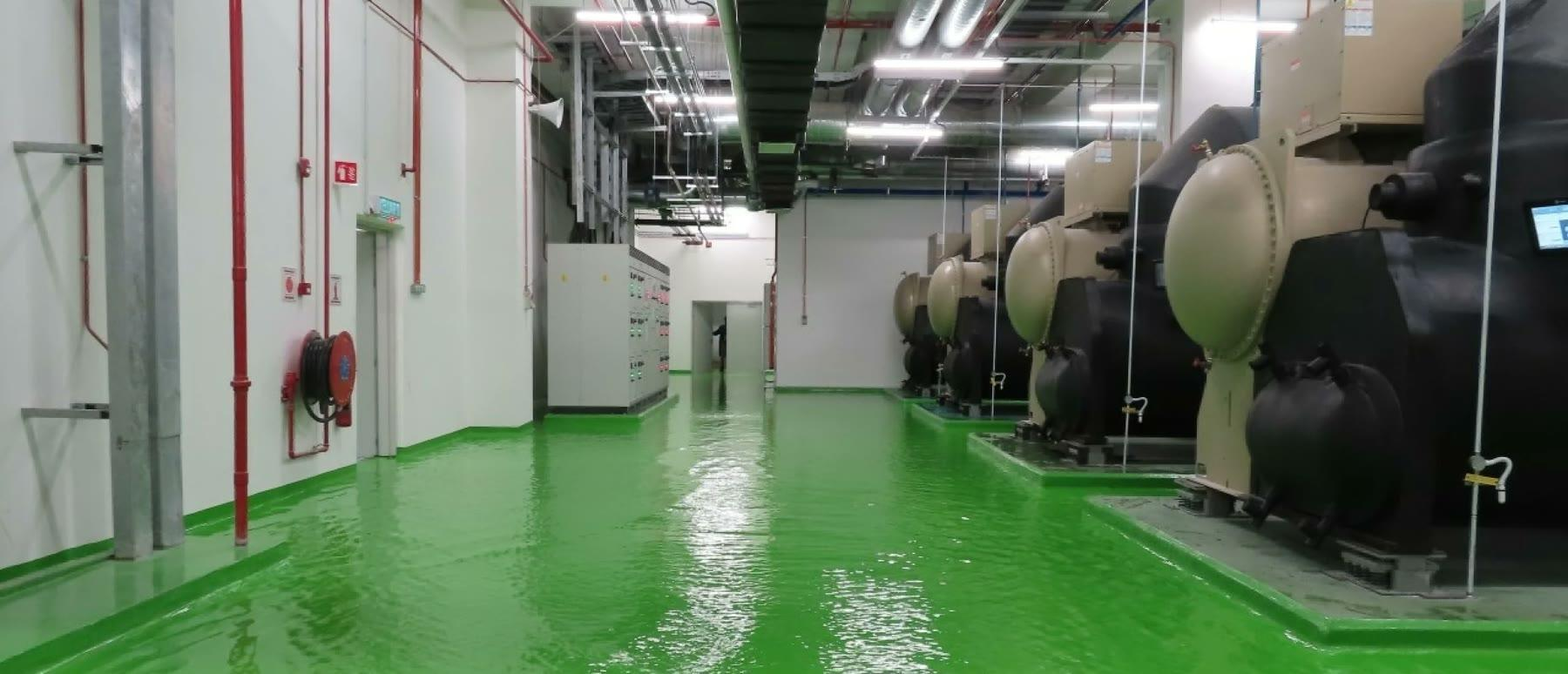water accumulation: (0, 371, 1568, 674)
